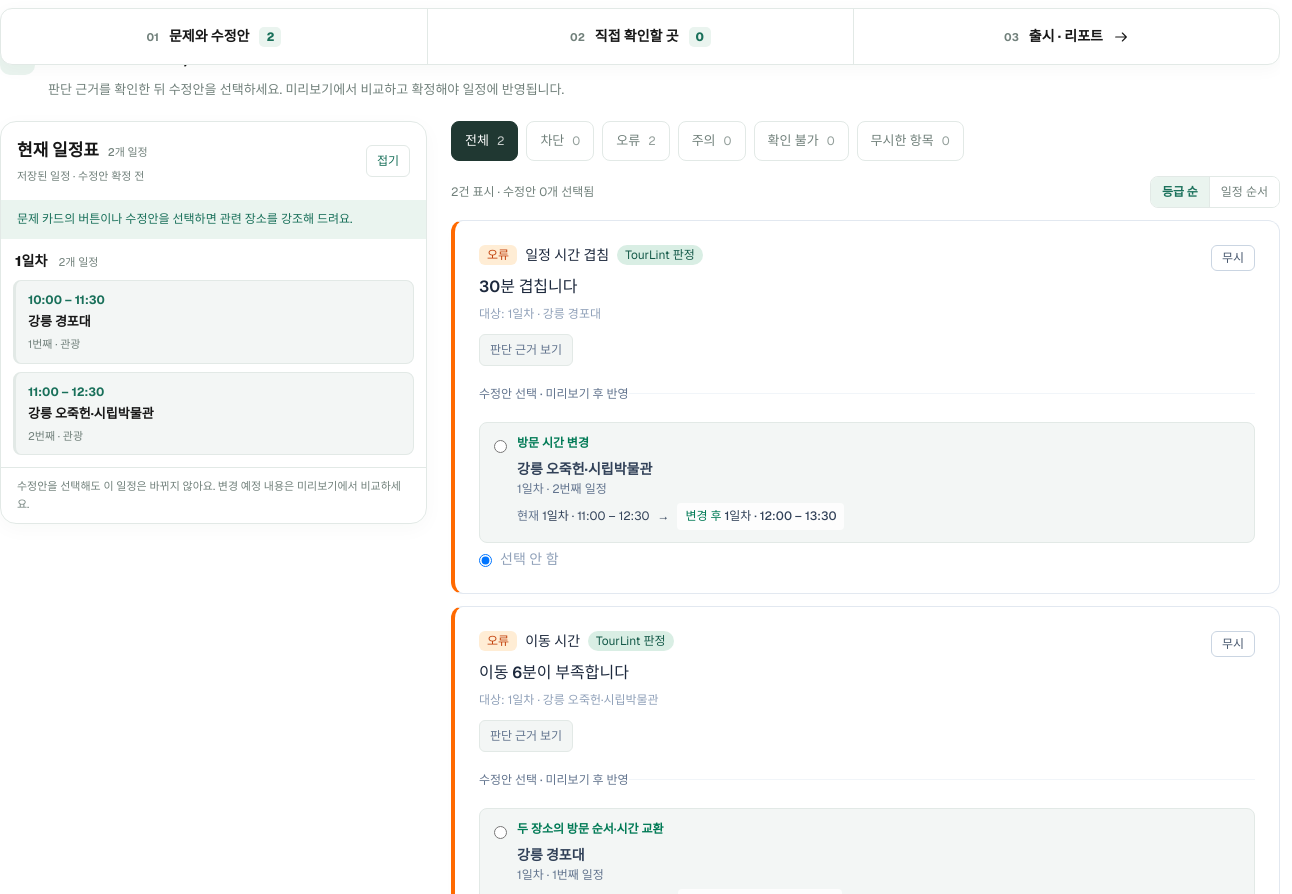
미리보기 머리 › 🔴 줄마다 [해제]하면 남은 선택으로 다시 미리보고, 충돌이 없으면 「충돌 없음」을 적는다
(page scrolled)
Expected: the label that starts with "방문 시간 변경" is shown, [479,422,1255,543]
Click the 1st radio button.
click(500, 446)  # box [494,440,507,453]
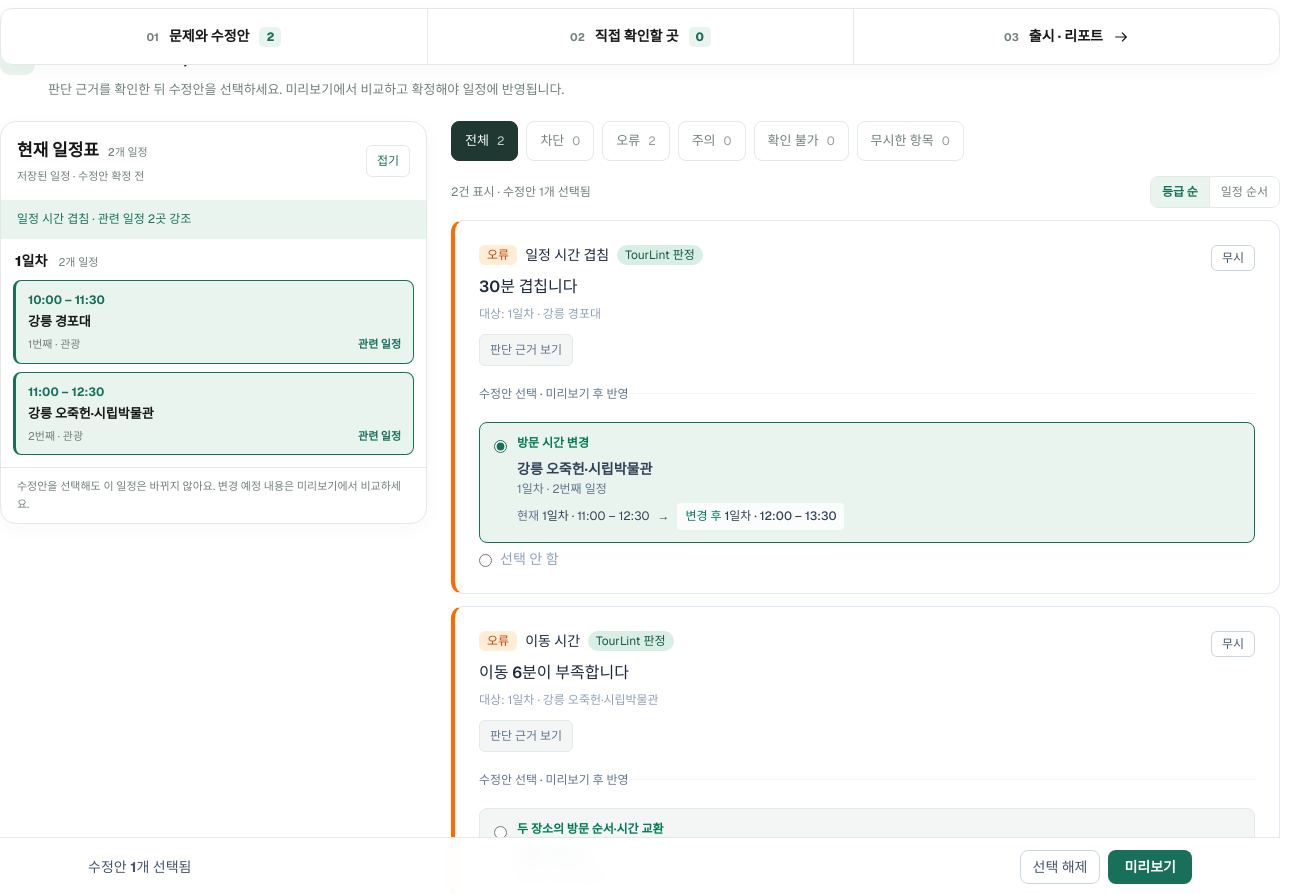
Click the 3rd radio button.
click(500, 832)  # box [494,826,507,839]
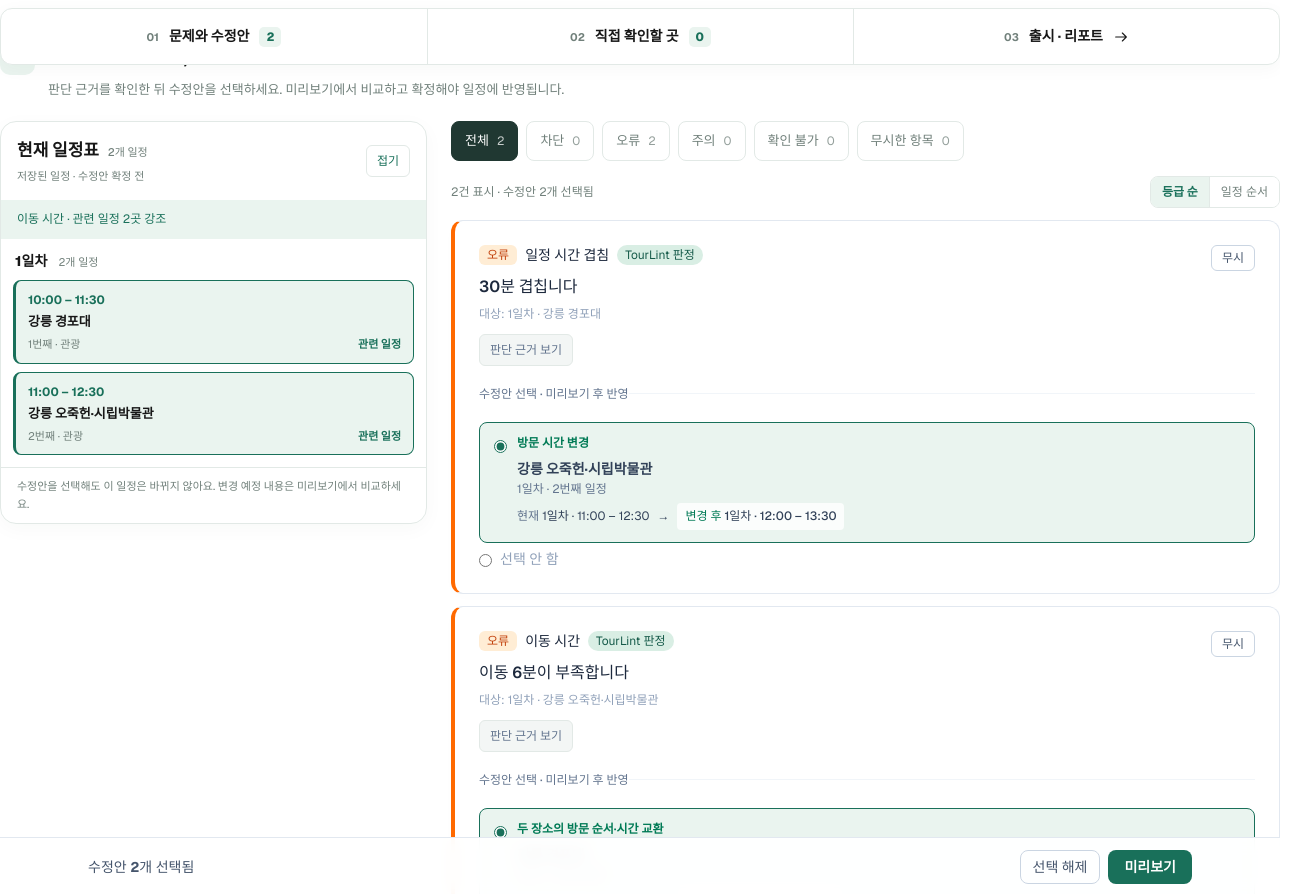
Click the button "미리보기".
click(1150, 867)  # box [1108,850,1192,884]
(page scrolled)
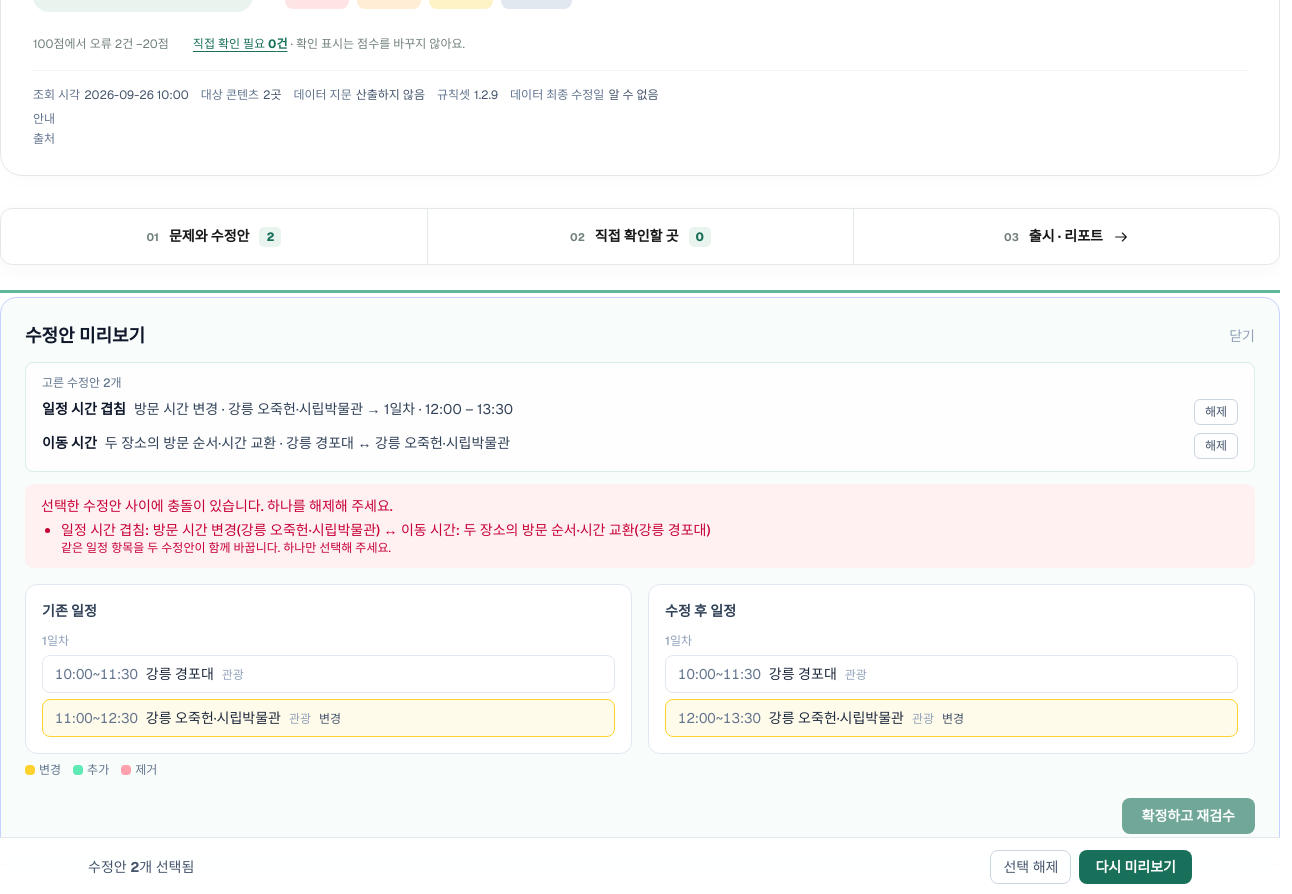
Click the 2nd button "해제".
click(1216, 446)  # box [1194,433,1238,459]
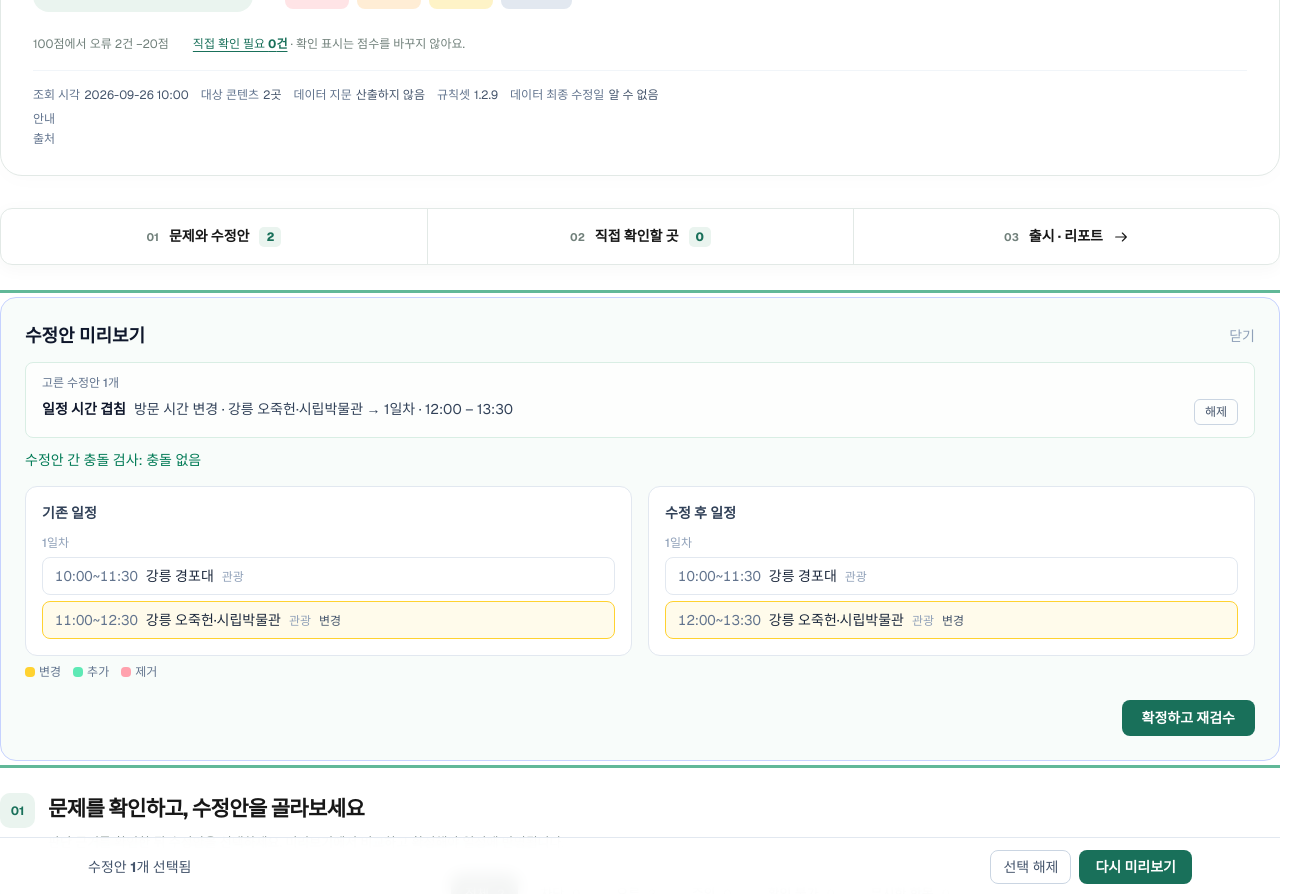
Expected: the message "수정안 간 충돌 검사: 충돌 없음" is shown, [25,451,201,469]
Expected: the button "확정하고 재검수" is enabled, [1122,700,1255,736]
